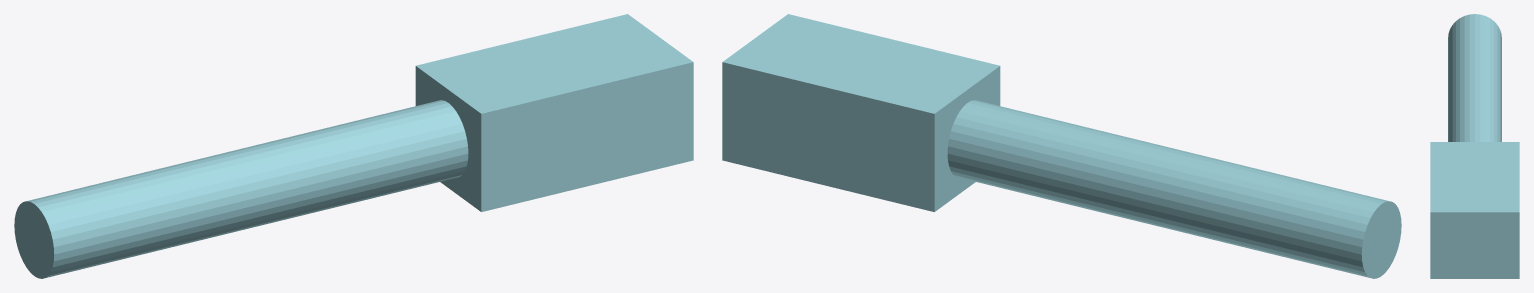
File: cylinder_brush_v9007.obj
The picture shows the model from 3 angles, left to right: view 1: azimuth 30°, elevation 25°; view 2: azimuth 150°, elevation 25°; view 3: azimuth 270°, elevation 25°; orthographic projection. The views are drawn at different scales.
Size of the model in its own units: 0.2738 by 0.0411 by 0.0498.
Materials: 1 (1 with a texture image).
